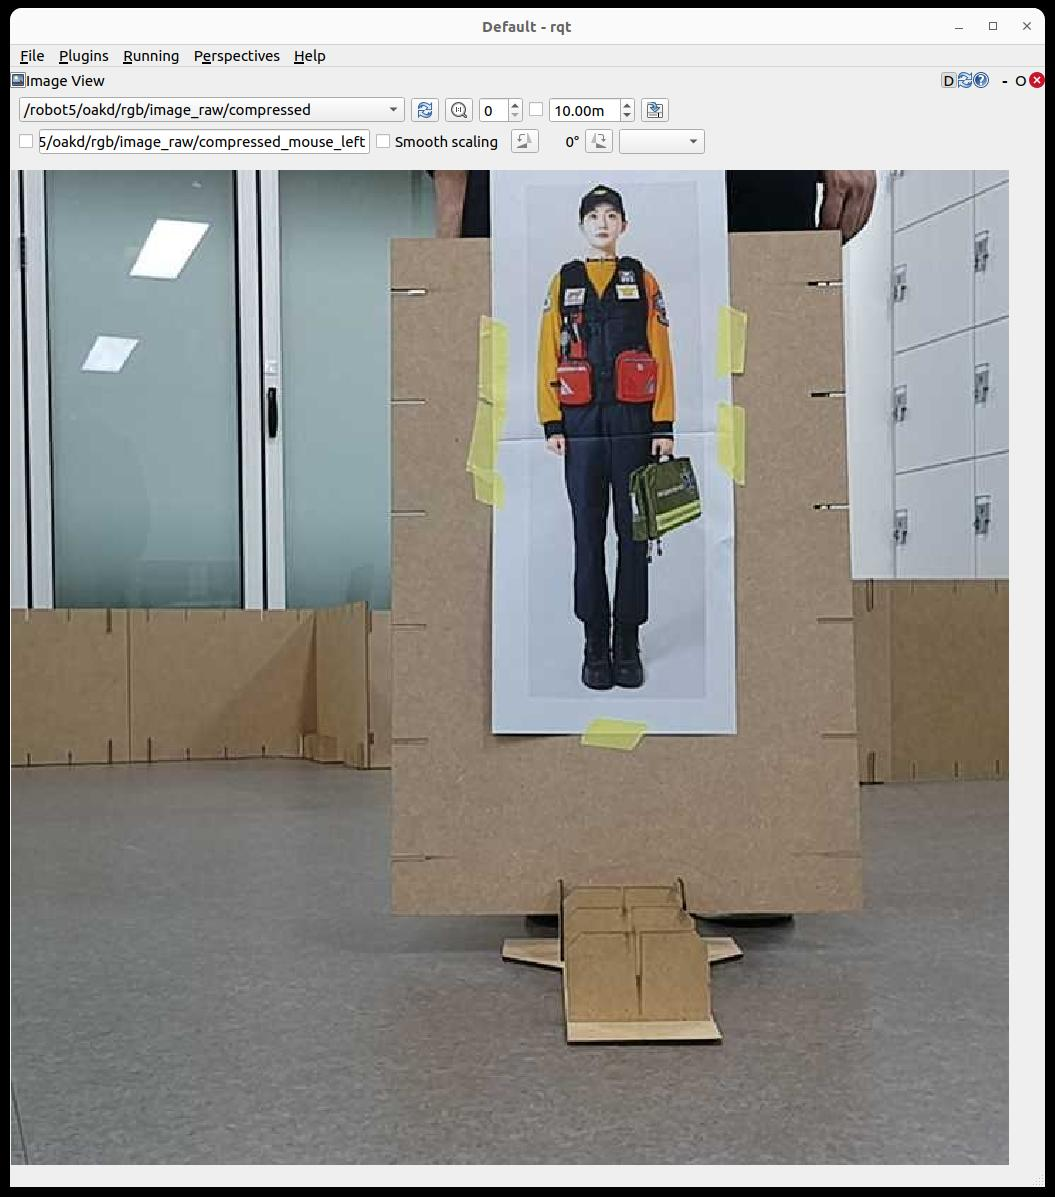Responder: (536, 185, 675, 688)
